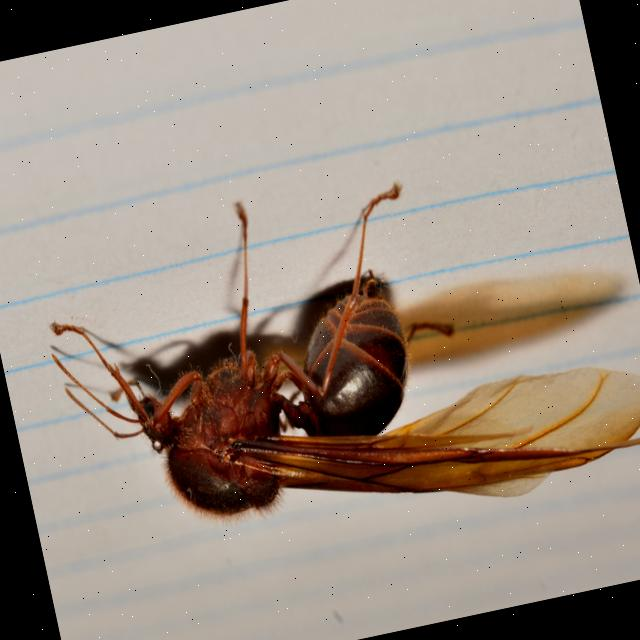Alive-Male-Alate: (28, 121, 640, 586)
